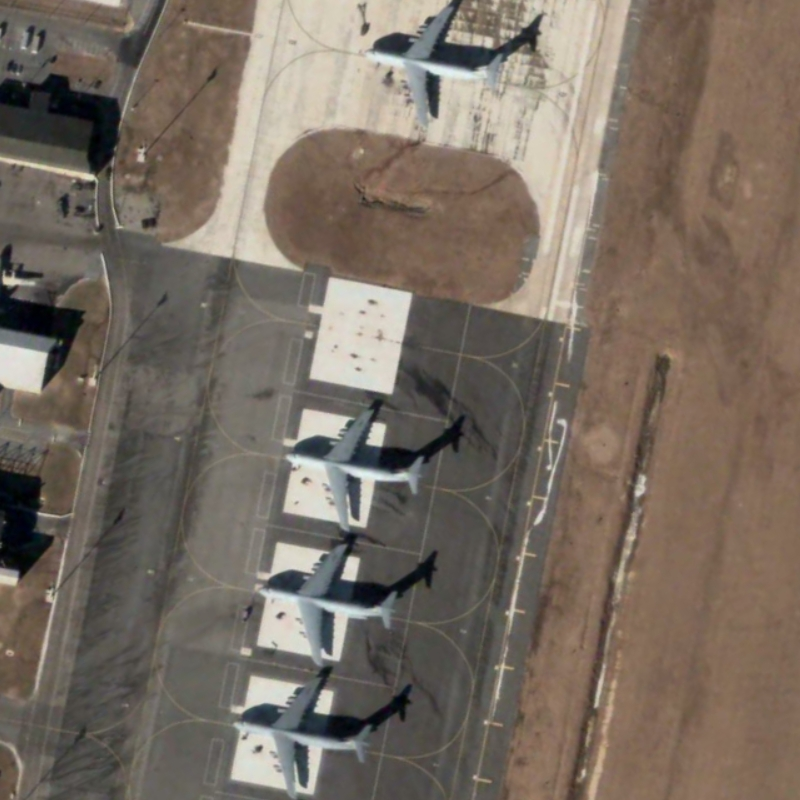A4: (277, 394, 432, 540), (356, 1, 510, 138), (224, 666, 379, 800), (250, 537, 400, 670)
